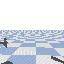drone: (0, 37, 8, 48)
